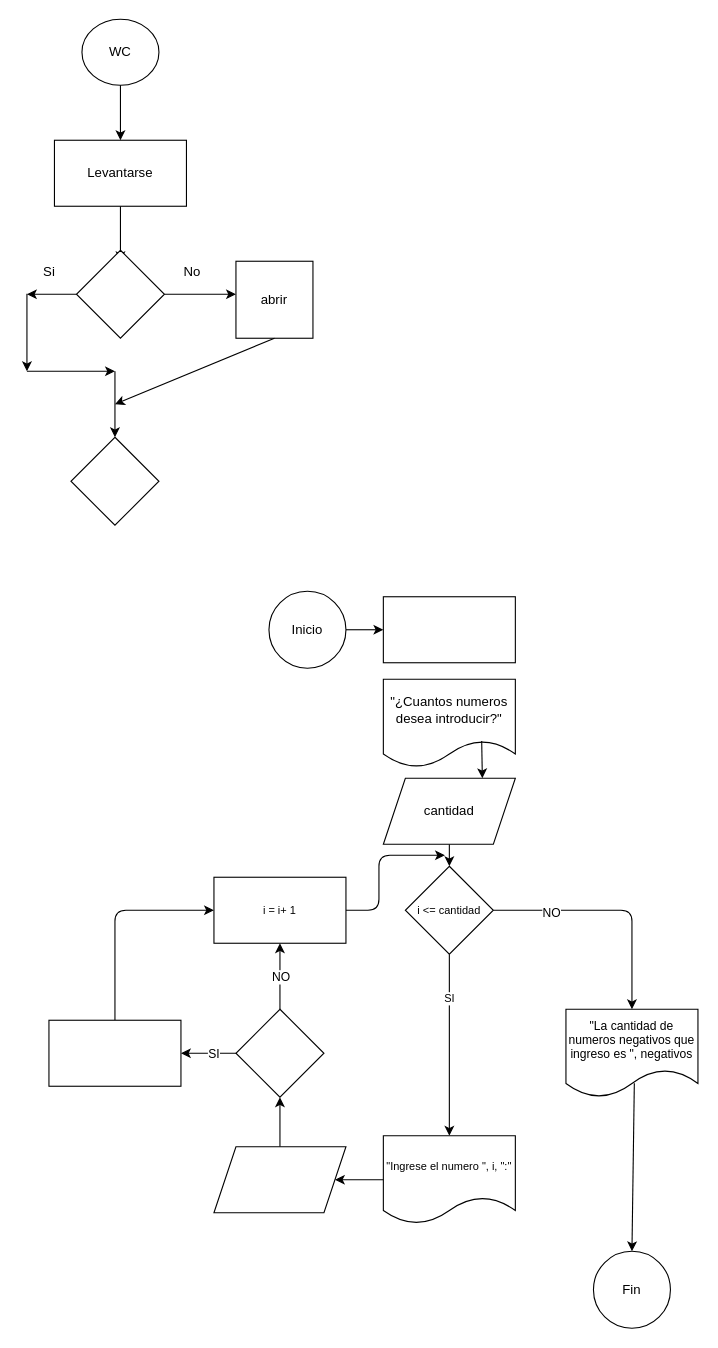
Some shapes in this 718 by 1348 pixel diagram are drawn without their labels. Each missing label, with the centre of its shape:
"Abierta?" goes at pixel 119 293.
"cantidad; i = 1; negativos = 0;" goes at pixel 448 629.
"negativos = negativos + 1" goes at pixel 114 1052.
"numero" goes at pixel 279 1179.
"numero < 0" goes at pixel 279 1052.
"ocupado?" goes at pixel 114 480.
